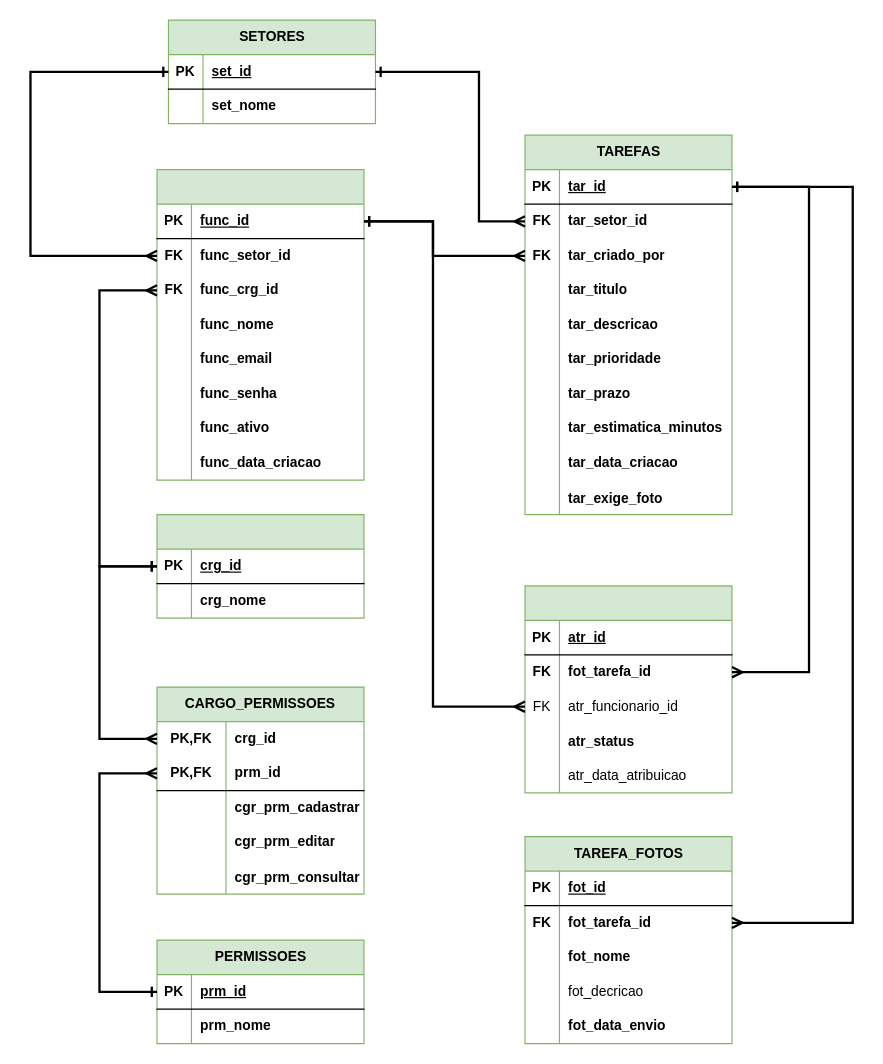
Image size: 883x1064. Some labels were removed from this diagram. The box of each missing label's shape, as (x1, y1, x2, y2) in pixels:
ATRIBUICAO_TAREFAS: (524, 585, 732, 793)
CARGOS: (156, 513, 364, 618)
FUNCIONARIOS: (156, 168, 364, 480)
